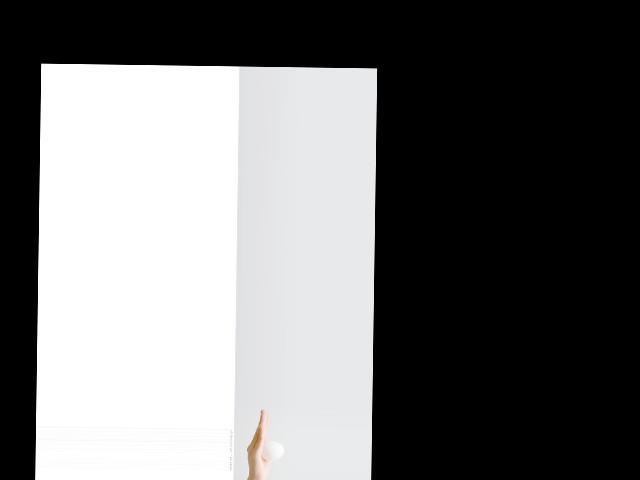egg: (260, 441, 283, 459)
